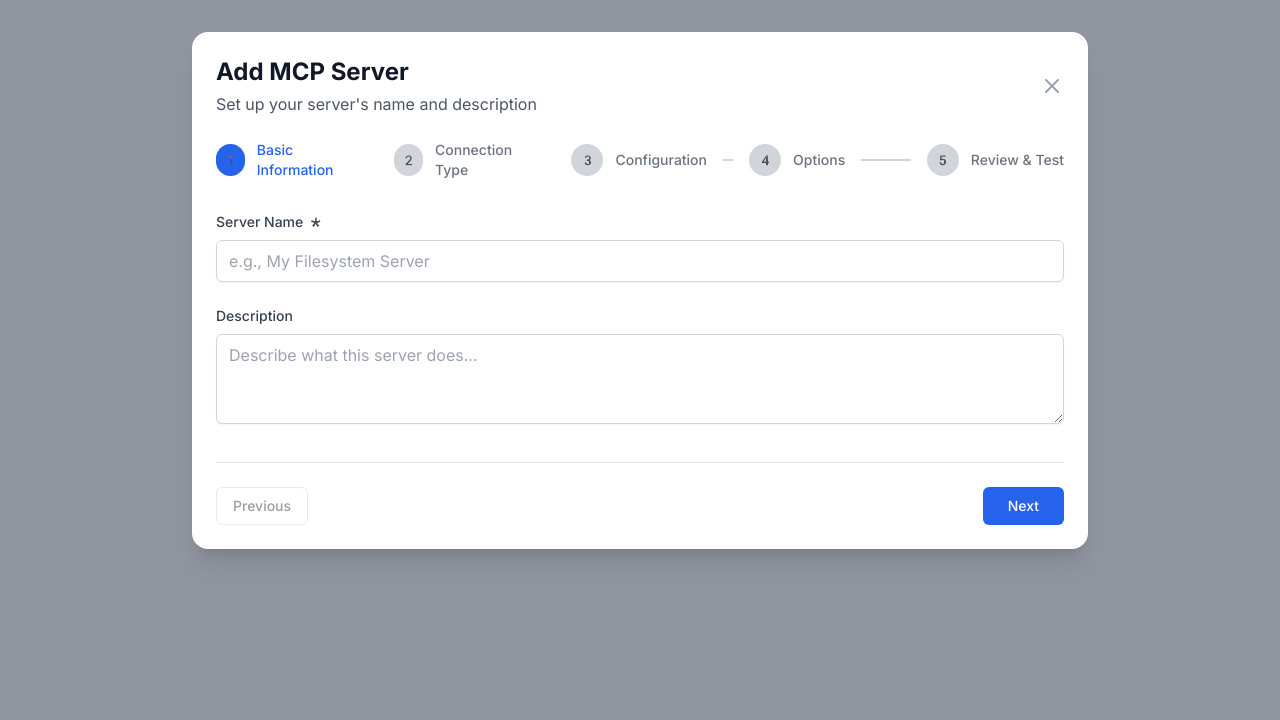
Test: McpServerWizard › Form Validation › validates command for STDIO transport
The width and height of the screenshot is (1280, 720).
Fill basic info - use getAllBy and take the first one
In the field with placeholder "e.g., My Filesystem Server": {"x": 640, "y": 261} top-left (216, 240), bottom-right (1064, 282), type "Test Server"
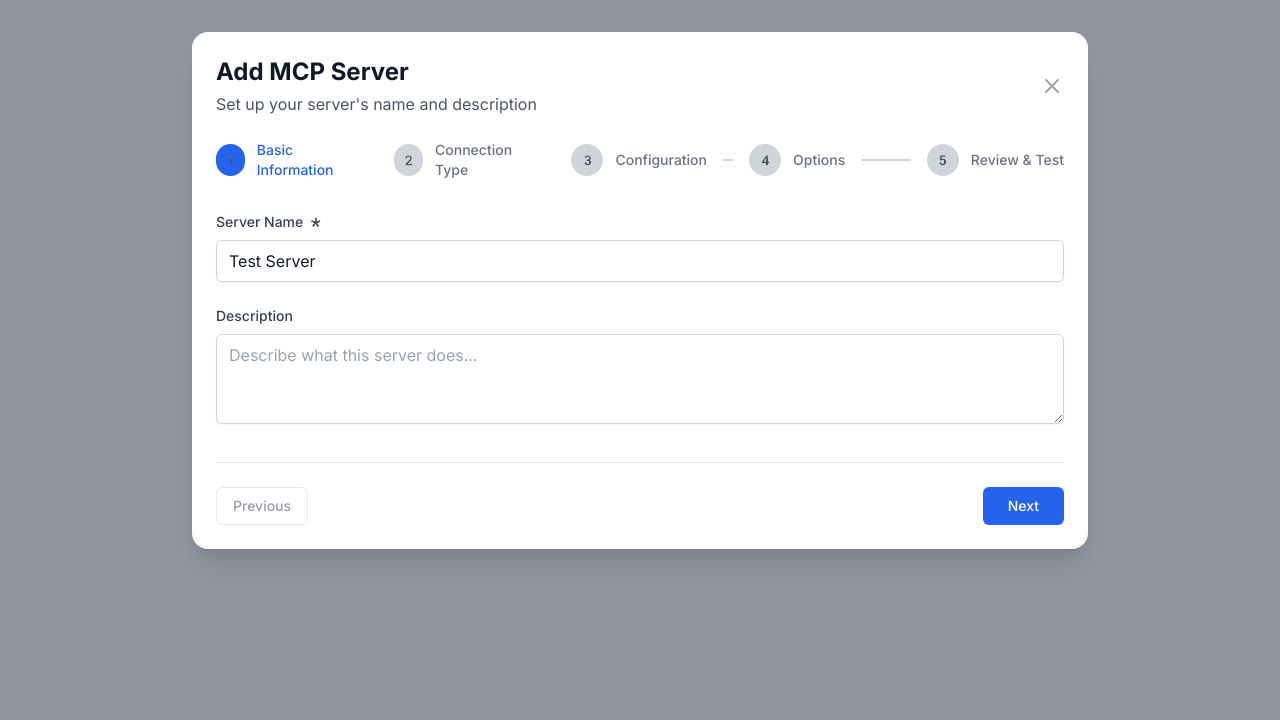
Go to next step (transport)
Click the button "Next": {"x": 1023, "y": 506} top-left (983, 487), bottom-right (1064, 525)
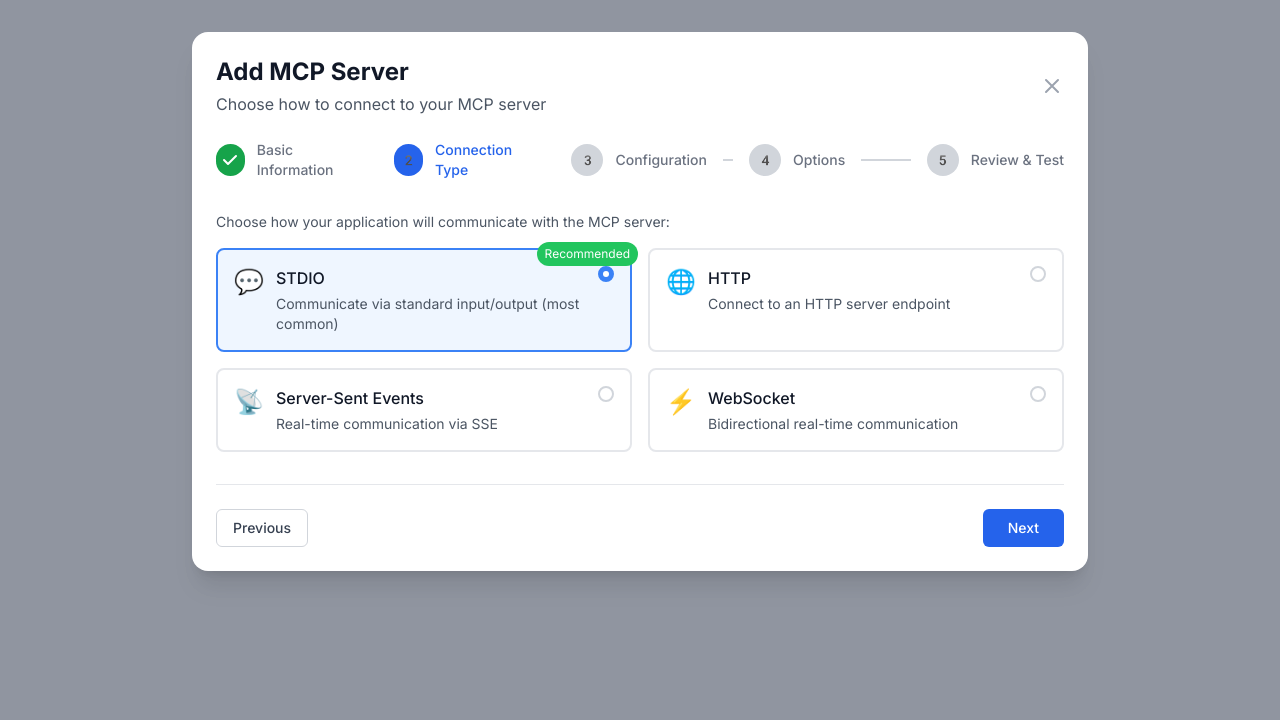
Expected: the text "Connection Type" is shown, top-left (435, 141), bottom-right (512, 178)
Click the button "Next": {"x": 1023, "y": 528} top-left (983, 509), bottom-right (1064, 547)
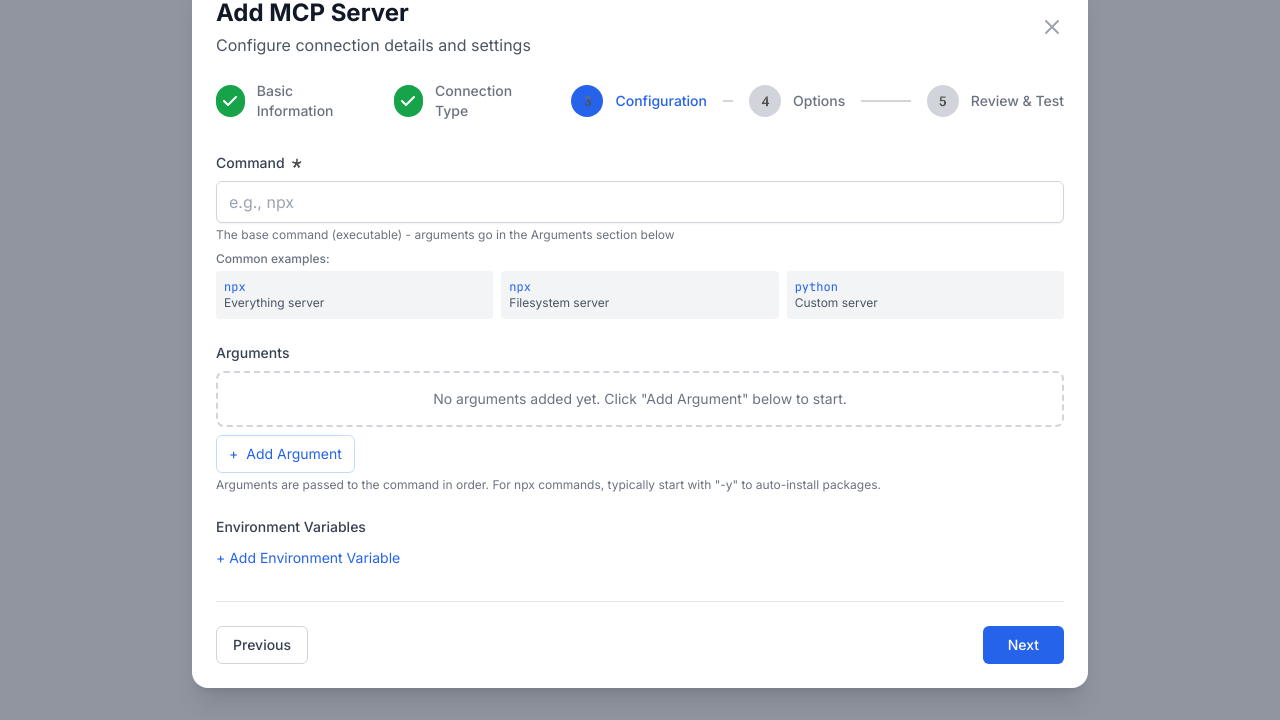
Expected: the text "Configuration" is shown, top-left (615, 91), bottom-right (707, 111)
Click the button "Next": {"x": 1023, "y": 645} top-left (983, 626), bottom-right (1064, 664)
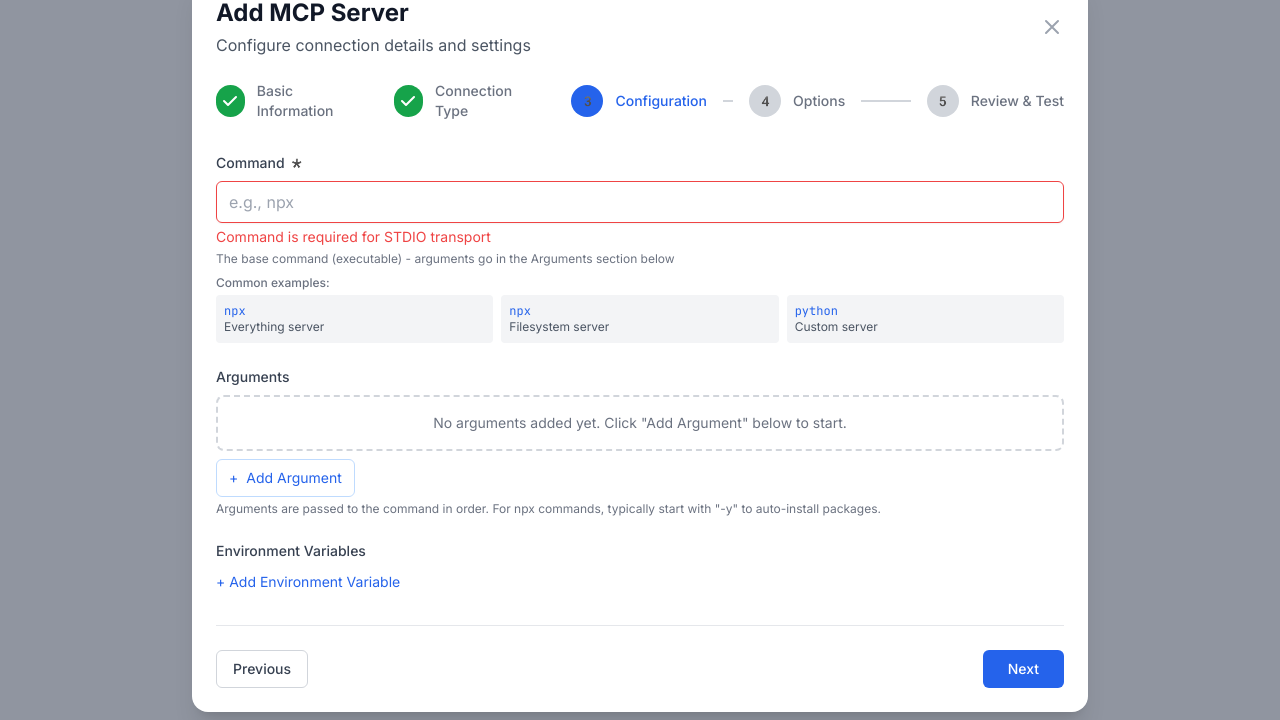
Expected: the text "Command is required for STDIO transport" is shown, top-left (216, 228), bottom-right (491, 245)
